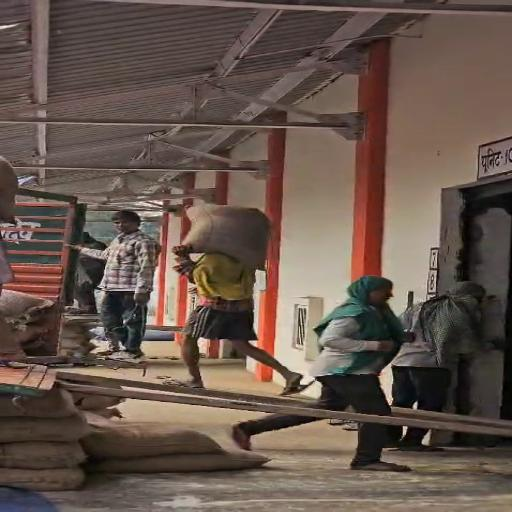bag: (175, 187, 288, 275)
